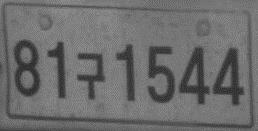1: (115, 41, 137, 102), (47, 39, 66, 100)
4: (212, 46, 245, 106), (178, 45, 210, 104)
5: (147, 45, 176, 104)
8: (12, 38, 42, 96)
구: (75, 52, 106, 100)
